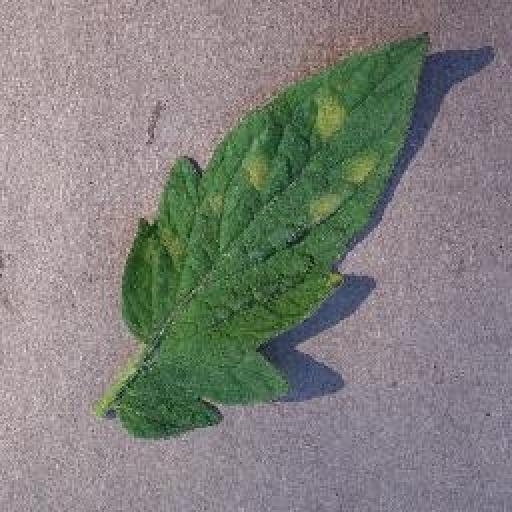Leaf Mold: (111, 31, 430, 433)
